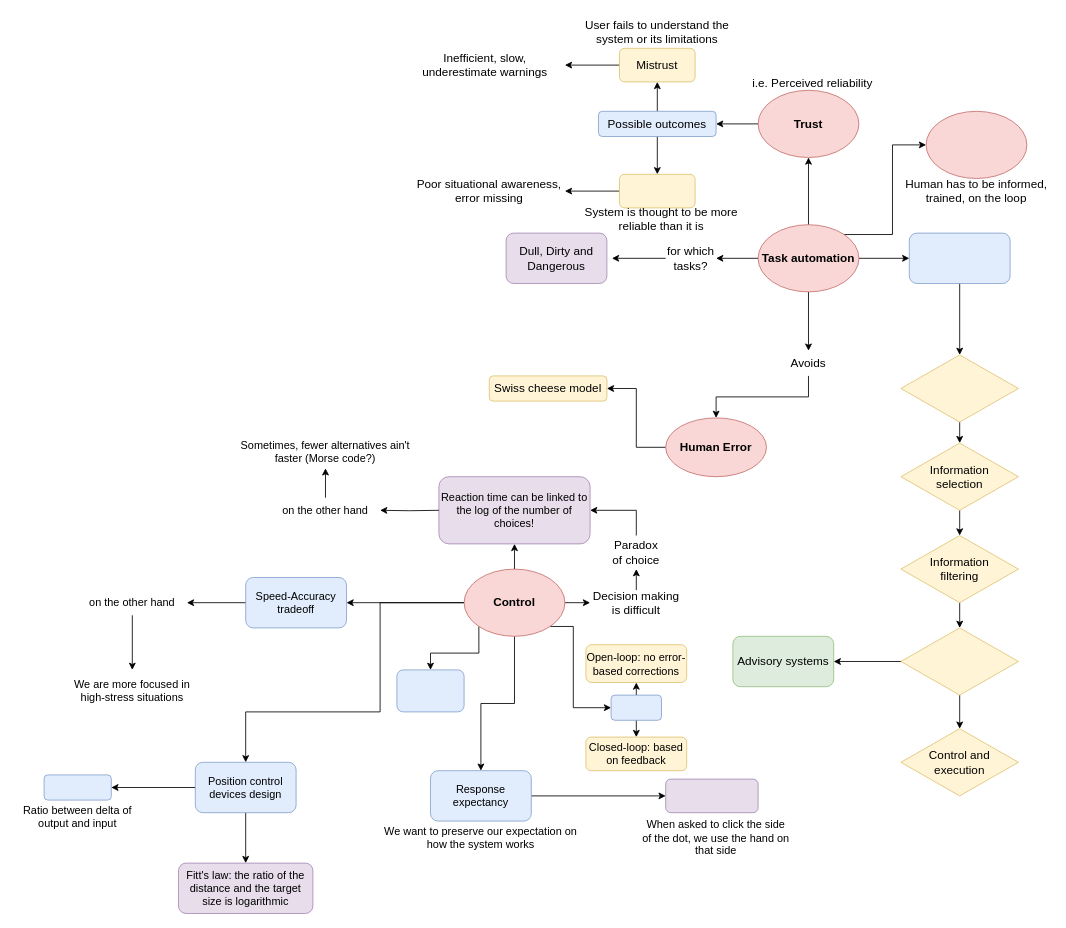
Image size: 1066x928. Some labels were removed from this diagram. The centre of each missing label's shape, as x and y in pixels:
"Data integration" goes at [959,661].
"Different levels" goes at [959,258].
"Gain" goes at [77,787].
"Human-centered automation" goes at [976,144].
"Information acquisition" goes at [959,388].
"Overtrust" goes at [657,190].
"Simon Effect" goes at [711,795].
"Types" goes at [636,707].
"Voice Input Devices" goes at [430,690].
